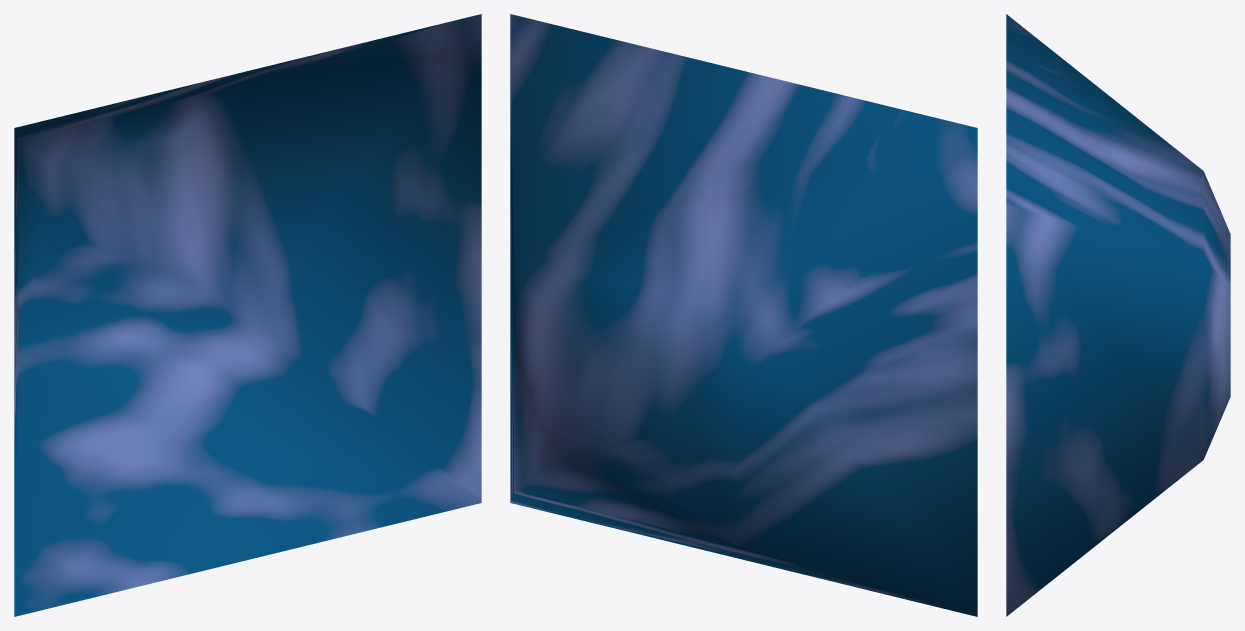
The model's file is background.glb.
The picture shows the model from 3 angles, left to right: view 1: azimuth 30°, elevation 25°; view 2: azimuth 150°, elevation 25°; view 3: azimuth 270°, elevation 25°; orthographic projection. The views are drawn at different scales.
Parts seen in each view (by area): view 1: Cube; view 2: Cube; view 3: Cube.
Part boxes in pixels (box(x1,y1,x2,y2)): Cube: box(14, 14, 481, 616); Cube: box(510, 14, 977, 616); Cube: box(1006, 14, 1230, 616).
Size of the model in its own units: 4.05 by 4.05 by 2.
Materials: 1 (1 with a texture image).
